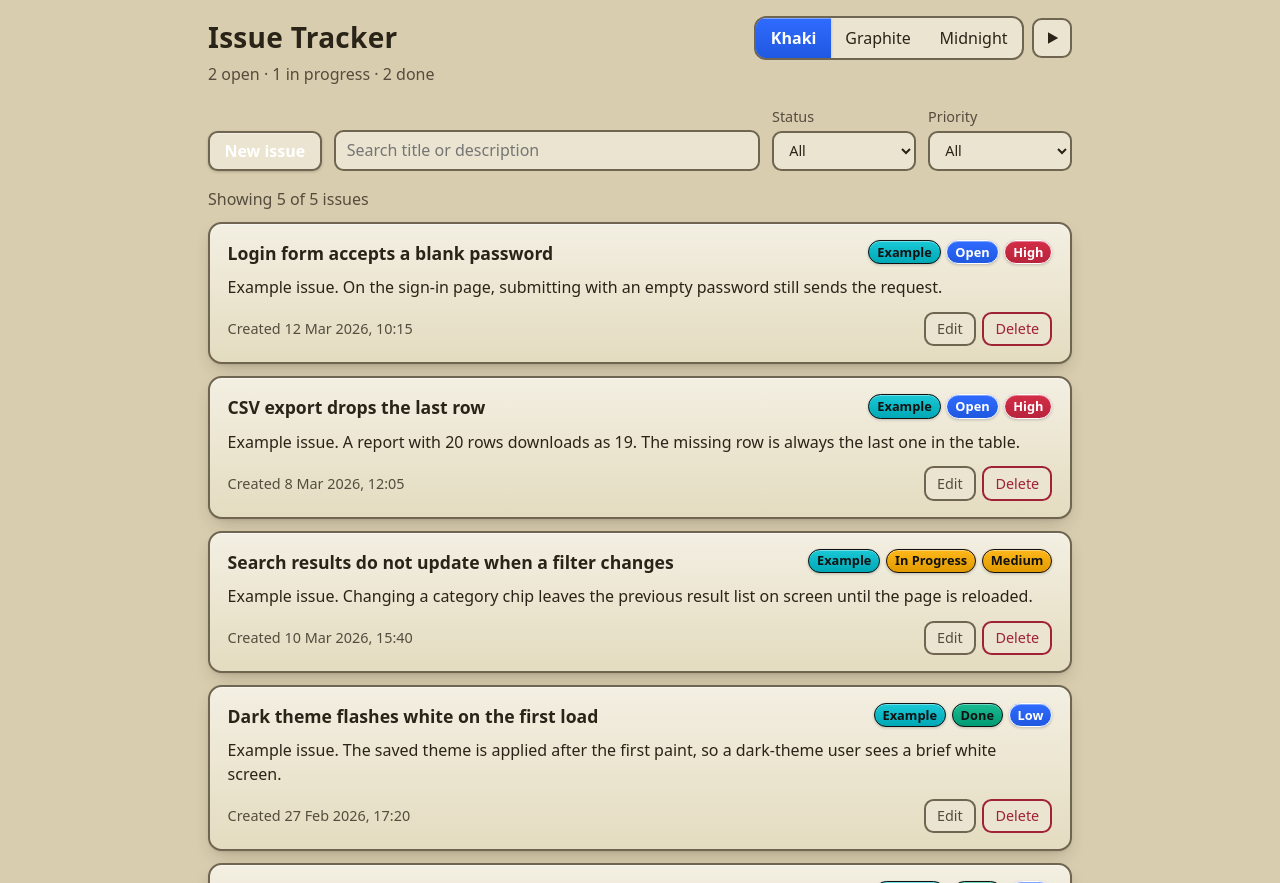
Test case: App › filters by status and search
Select "Done" in the dropdown labelled "Status": (844, 151) [772,131,916,171]
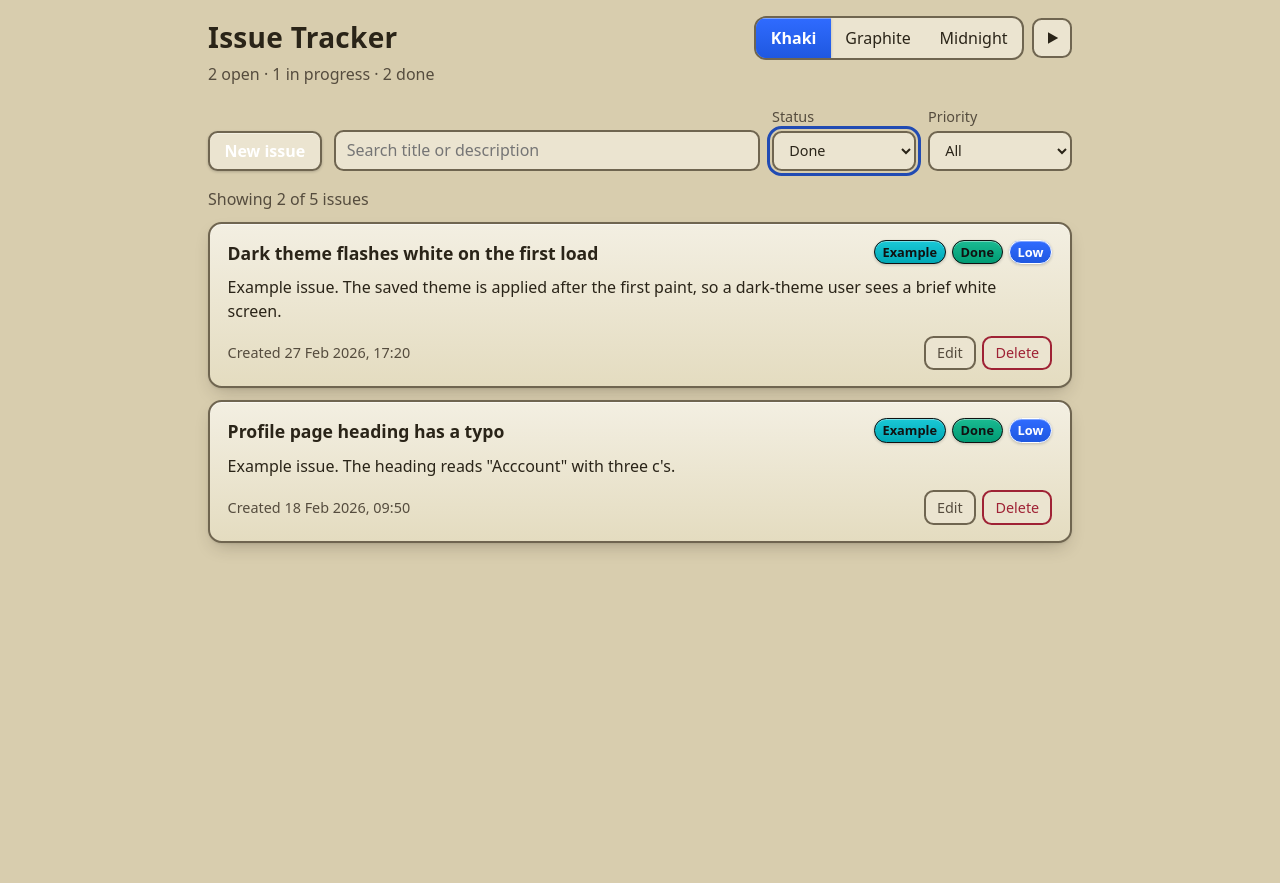
expect the heading "Profile page heading has a typo" is shown: met, box [228,419,504,443]
expect the text "Showing 2 of 5 issues" is shown: met, box [208,188,369,210]
expect the heading "Login form accepts a blank password" is gone: met
In the search field with placeholder "Search title or description": (547, 150) [334,130,760,171], type "theme"
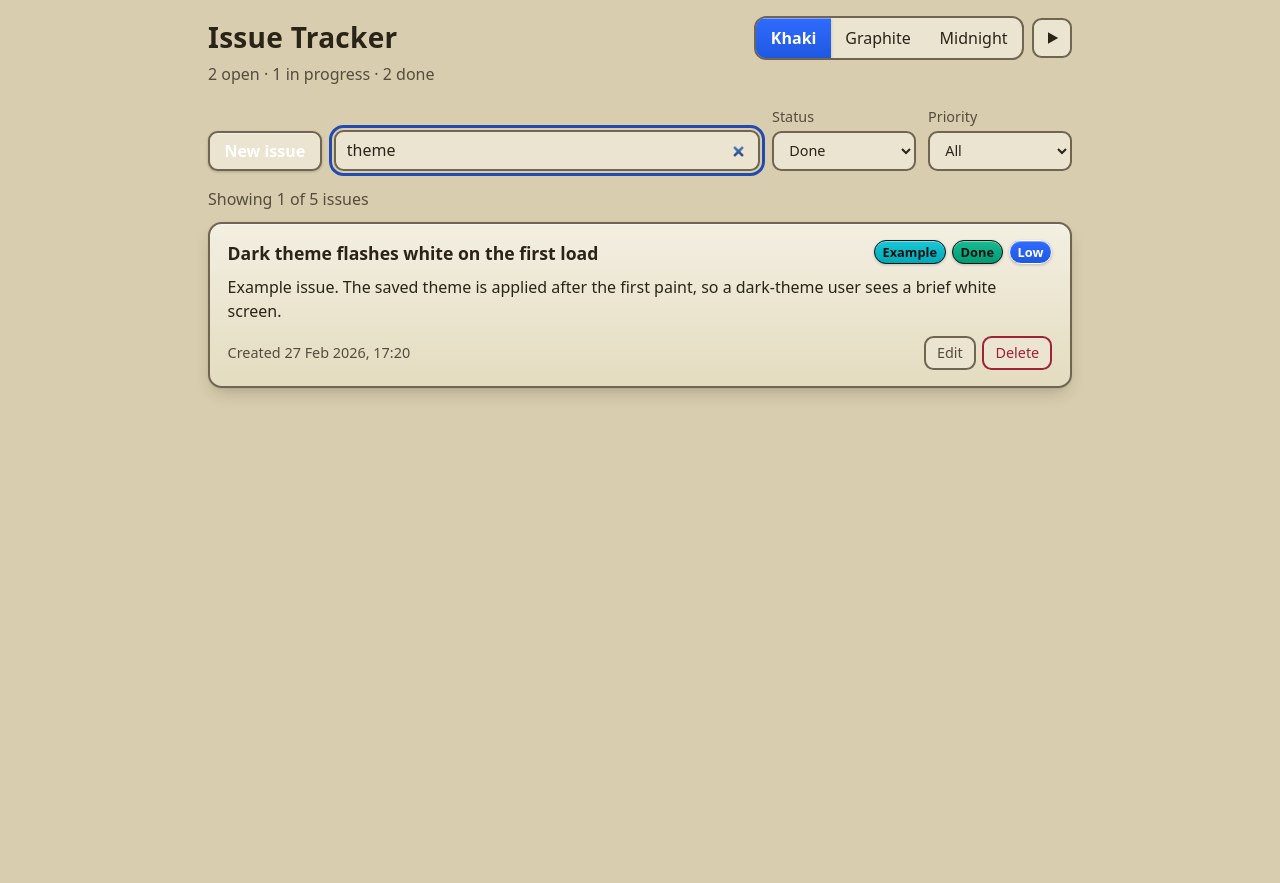
expect the heading "Dark theme flashes white on the first load" is shown: met, box [228,241,598,265]
expect the heading "Profile page heading has a typo" is gone: met
expect the text "Showing 1 of 5 issues" is shown: met, box [208,188,369,210]
